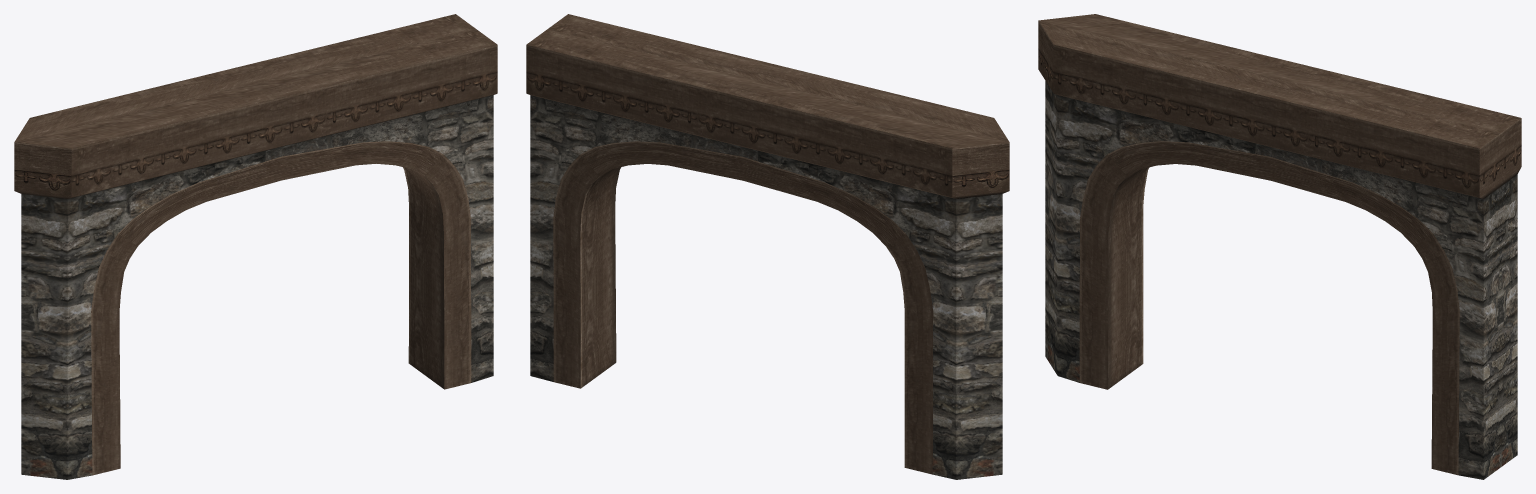
File: Stone_Arched_Door_Upper.dae
3 renders of one model, left to right at view 1: azimuth 30°, elevation 25°; view 2: azimuth 150°, elevation 25°; view 3: azimuth 330°, elevation 25°, orthographic.
Visible parts, largest first — view 1: StoneArch1; view 2: StoneArch1; view 3: StoneArch1.
Boxes of the visible parts, bbox=[...] form: StoneArch1: bbox=[14, 14, 497, 479]; StoneArch1: bbox=[526, 14, 1009, 479]; StoneArch1: bbox=[1038, 14, 1521, 479].
Size of the model in its own units: 4.34 by 3 by 0.68.
Materials: 1 (1 with a texture image).
